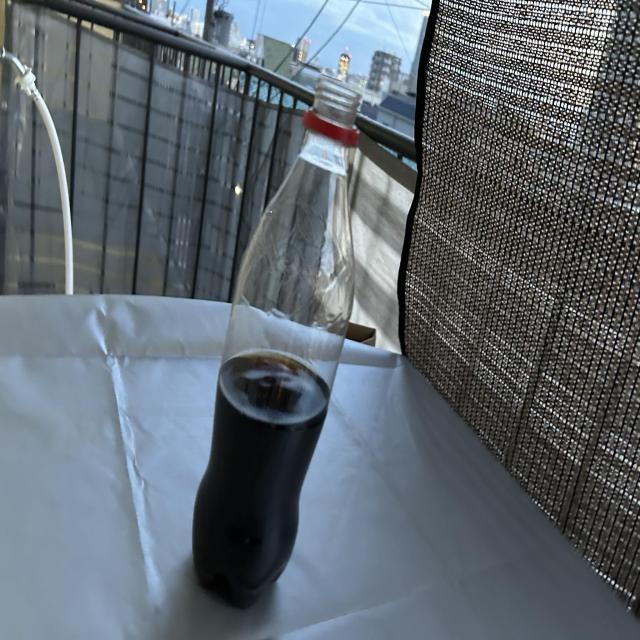medium: (192, 79, 359, 605)
